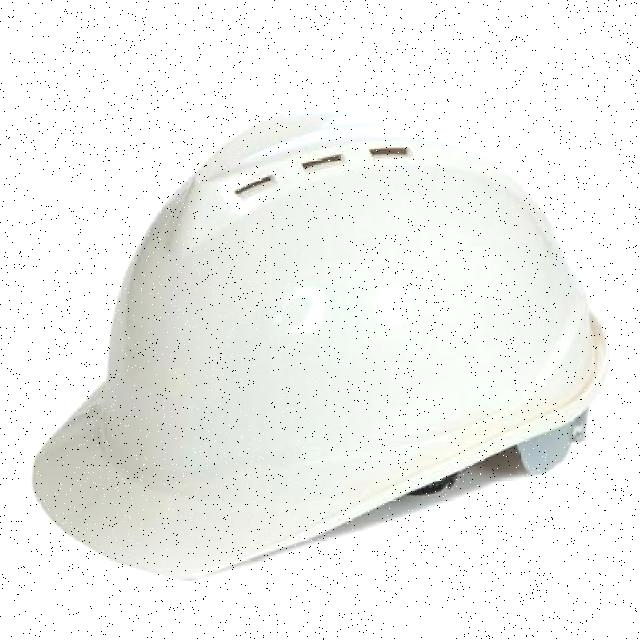Helmet: (31, 80, 611, 582)
